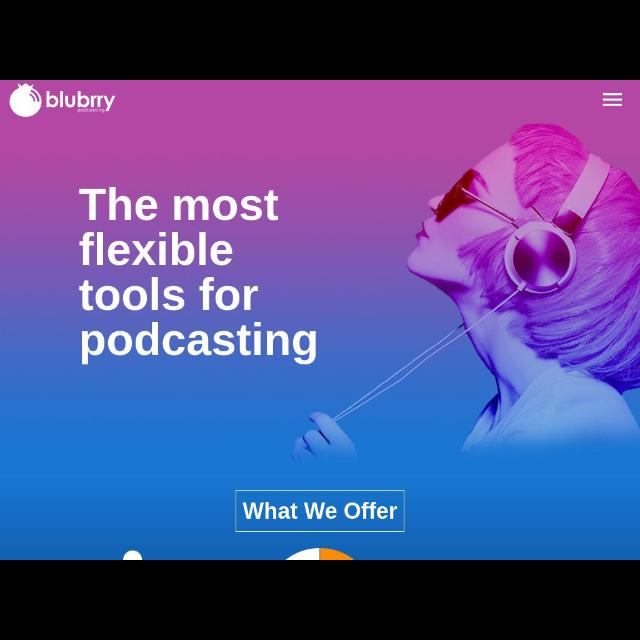icon: (600, 92, 624, 108)
image: (286, 121, 638, 475), (7, 82, 117, 120)
text: (75, 185, 322, 367)
textbutton: (236, 491, 404, 533)
